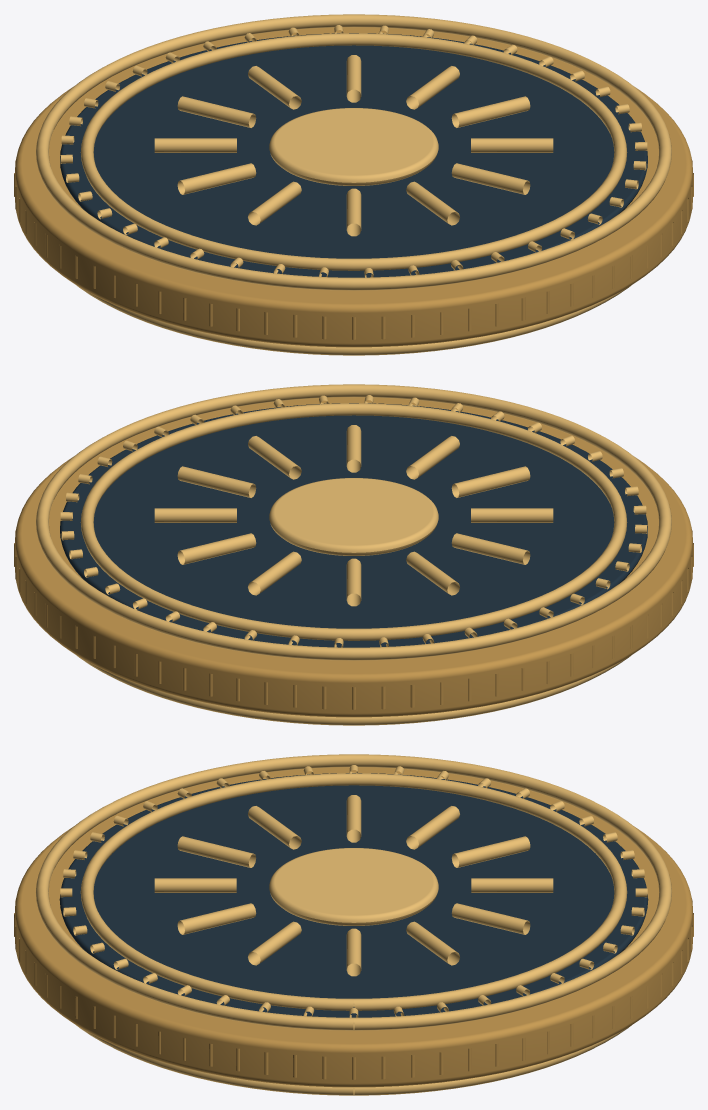
The model's file is celestial-coin-v1.glb.
The picture shows the model from 3 angles, top to bottom: view 1: azimuth 30°, elevation 25°; view 2: azimuth 150°, elevation 25°; view 3: azimuth 270°, elevation 25°; orthographic projection.
Visible parts, largest first — view 1: EnamelField.001, CoinStock, RaisedRim.002, RaisedRim.003, SunHeart, RaisedRim, SunRay.005, SunRay.011, SunRay.006, SunRay.010, SunRay, SunRay.004 (+6 smaller); view 2: EnamelField.001, CoinStock, RaisedRim.002, RaisedRim.003, SunHeart, RaisedRim, SunRay.001, SunRay.007, SunRay.002, SunRay.006, SunRay, SunRay.008 (+6 smaller); view 3: EnamelField.001, CoinStock, RaisedRim.002, RaisedRim.003, SunHeart, RaisedRim, SunRay.003, SunRay.009, SunRay.002, SunRay.010, SunRay.004, SunRay.008 (+6 smaller).
Part boxes in pixels (x1=…): EnamelField.001: x1=60, y1=33, x2=647, y2=277; CoinStock: x1=15, y1=27, x2=692, y2=347; RaisedRim.002: x1=36, y1=14, x2=671, y2=290; RaisedRim.003: x1=80, y1=33, x2=627, y2=270; SunHeart: x1=269, y1=108, x2=438, y2=185; RaisedRim: x1=76, y1=285, x2=631, y2=355; SunRay.005: x1=154, y1=138, x2=236, y2=152; SunRay.011: x1=471, y1=138, x2=553, y2=152; SunRay.006: x1=177, y1=163, x2=256, y2=194; SunRay.010: x1=451, y1=163, x2=530, y2=194; SunRay: x1=451, y1=96, x2=530, y2=127; SunRay.004: x1=177, y1=96, x2=256, y2=127; EnamelField.001: x1=60, y1=403, x2=647, y2=647; CoinStock: x1=15, y1=397, x2=692, y2=717; RaisedRim.002: x1=36, y1=384, x2=671, y2=660; RaisedRim.003: x1=80, y1=403, x2=627, y2=640; SunHeart: x1=269, y1=478, x2=438, y2=555; RaisedRim: x1=76, y1=655, x2=631, y2=725; SunRay.001: x1=154, y1=508, x2=236, y2=522; SunRay.007: x1=471, y1=508, x2=553, y2=522; SunRay.002: x1=177, y1=533, x2=256, y2=564; SunRay.006: x1=451, y1=533, x2=530, y2=564; SunRay: x1=177, y1=466, x2=256, y2=497; SunRay.008: x1=451, y1=466, x2=530, y2=497; EnamelField.001: x1=59, y1=773, x2=648, y2=1017; CoinStock: x1=15, y1=767, x2=692, y2=1087; RaisedRim.002: x1=36, y1=754, x2=671, y2=1030; RaisedRim.003: x1=80, y1=773, x2=627, y2=1010; SunHeart: x1=269, y1=848, x2=438, y2=925; RaisedRim: x1=76, y1=1025, x2=631, y2=1095; SunRay.003: x1=471, y1=878, x2=553, y2=892; SunRay.009: x1=154, y1=878, x2=236, y2=892; SunRay.002: x1=451, y1=903, x2=530, y2=934; SunRay.010: x1=177, y1=903, x2=256, y2=934; SunRay.004: x1=451, y1=836, x2=530, y2=867; SunRay.008: x1=177, y1=836, x2=256, y2=867.
Size of the model in its own units: 1.36 by 0.212 by 1.36.
